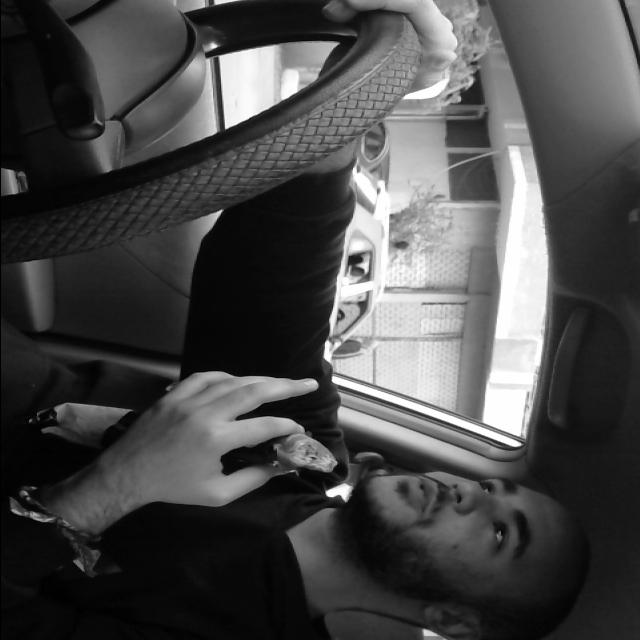eating: (24, 390, 347, 490)
